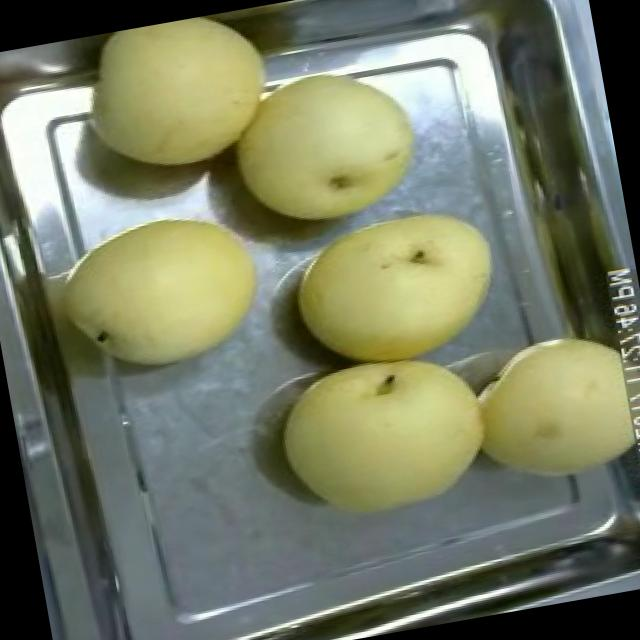Fruit: (256, 332, 509, 546), (44, 191, 284, 394), (271, 190, 520, 381), (210, 50, 438, 248), (66, 4, 294, 196), (456, 314, 640, 502)
